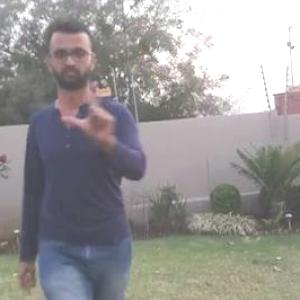land_hand: (62, 80, 121, 147)
